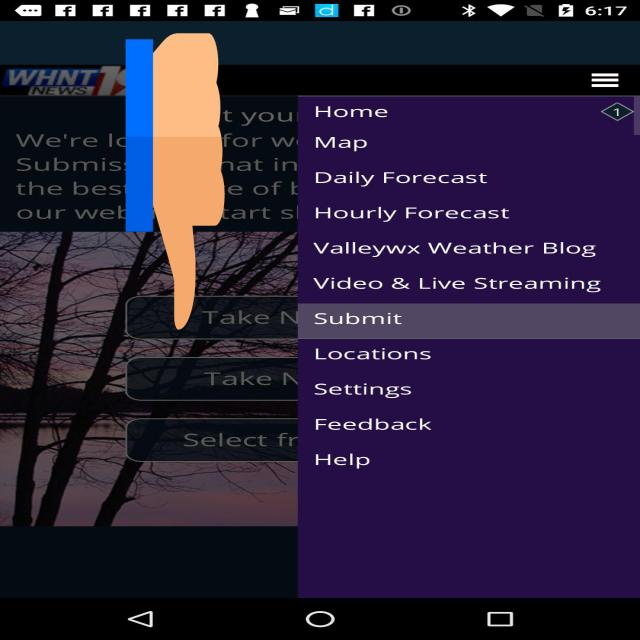obstruction: (126, 26, 224, 337)
